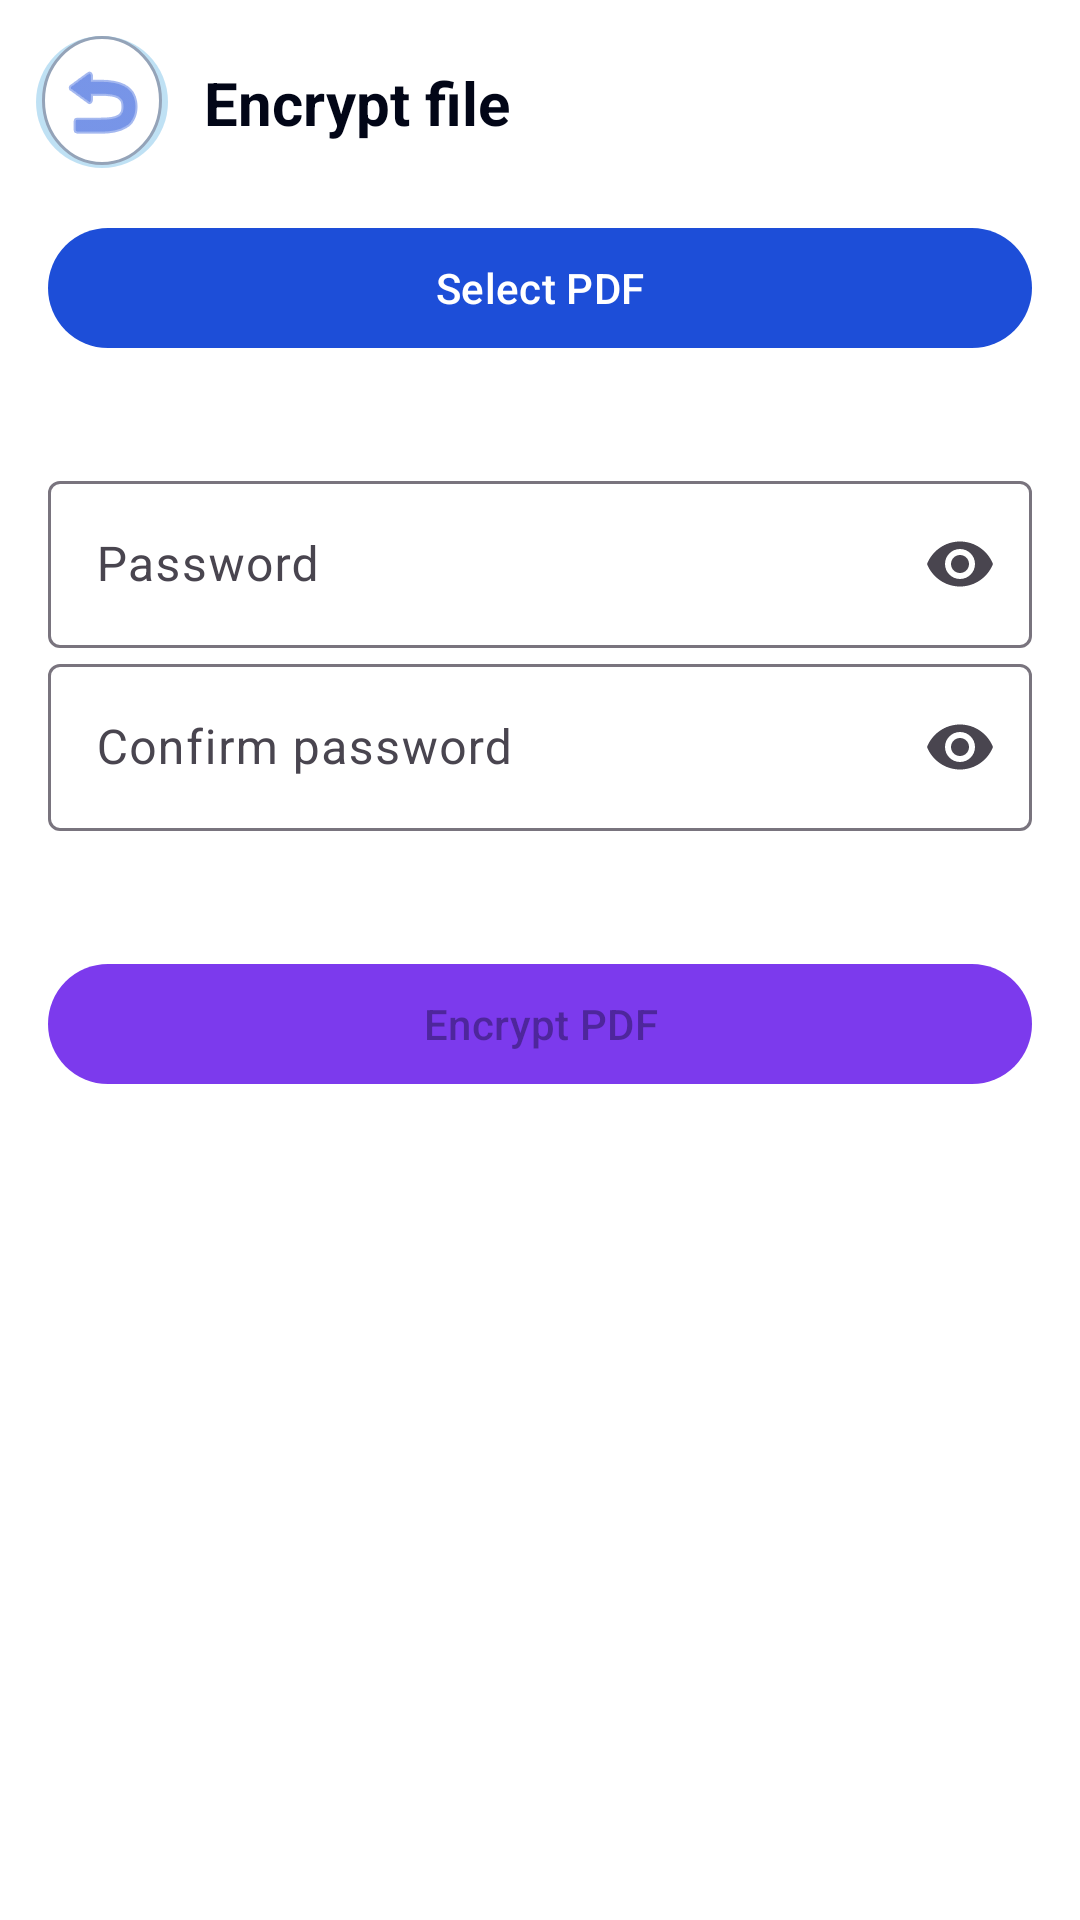

Icon click points for this 1080×1920 phone screenshot, format [x,y]:
Back: [102,102]
